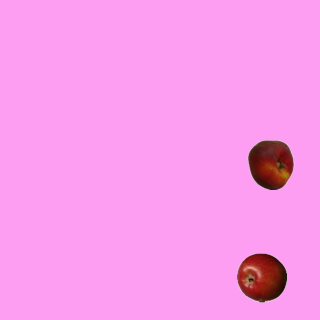Apple Braeburn: (236, 252, 286, 302)
Nectarine Flat: (245, 139, 295, 189)
